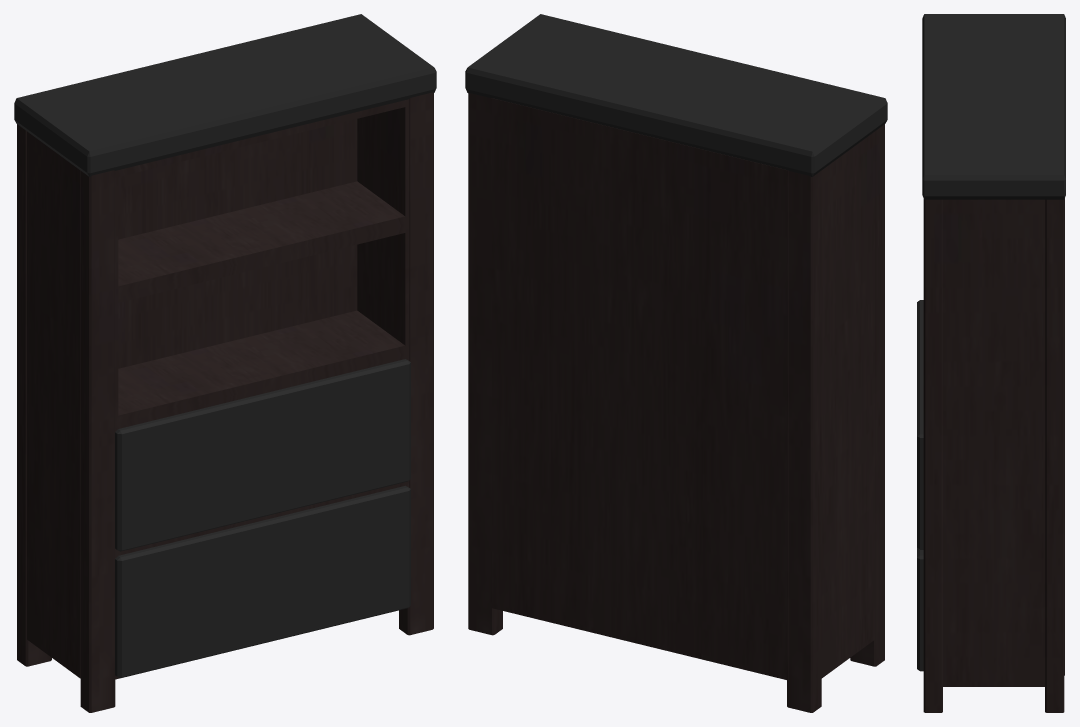
File: bookshelf.glb
The picture shows the model from 3 angles, left to right: view 1: azimuth 30°, elevation 25°; view 2: azimuth 150°, elevation 25°; view 3: azimuth 270°, elevation 25°; orthographic projection. The views are drawn at different scales.
Parts seen in each view (by area): view 1: shelving_unit_325, shelving_unit_drawer_325_2, shelving_unit_drawer_325_1; view 2: shelving_unit_325; view 3: shelving_unit_325, shelving_unit_drawer_325_1, shelving_unit_drawer_325_2.
Part boxes in pixels (x1=…): shelving_unit_325: x1=14, y1=14, x2=436, y2=712; shelving_unit_drawer_325_2: x1=115, y1=485, x2=410, y2=678; shelving_unit_drawer_325_1: x1=115, y1=359, x2=410, y2=551; shelving_unit_325: x1=465, y1=14, x2=887, y2=712; shelving_unit_325: x1=922, y1=14, x2=1065, y2=712; shelving_unit_drawer_325_1: x1=917, y1=300, x2=923, y2=549; shelving_unit_drawer_325_2: x1=917, y1=548, x2=923, y2=671.
Size of what is drawn, in the model's own units: 0.9172 by 1.41 by 0.356.
2 materials, 1 textured.
